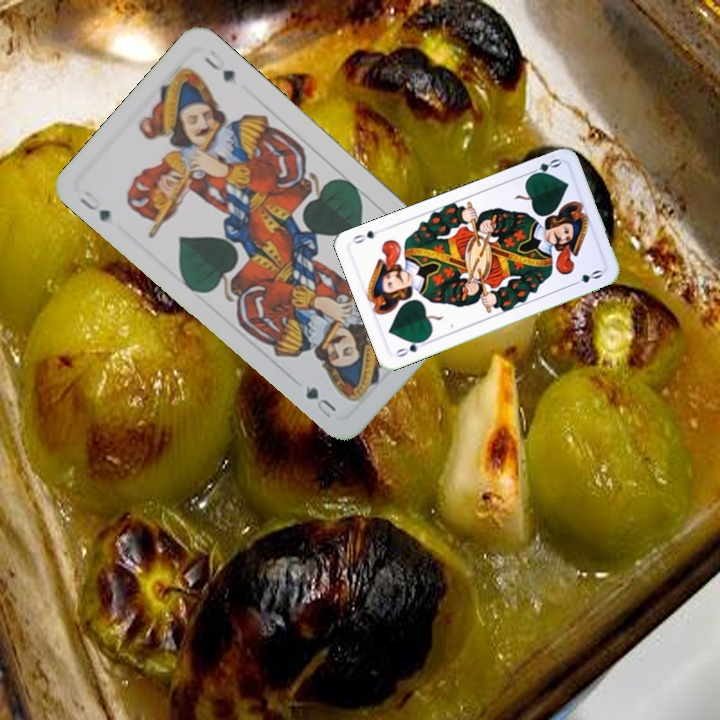GO: (523, 154, 563, 180), (391, 335, 429, 360)
GU: (75, 193, 113, 226)
